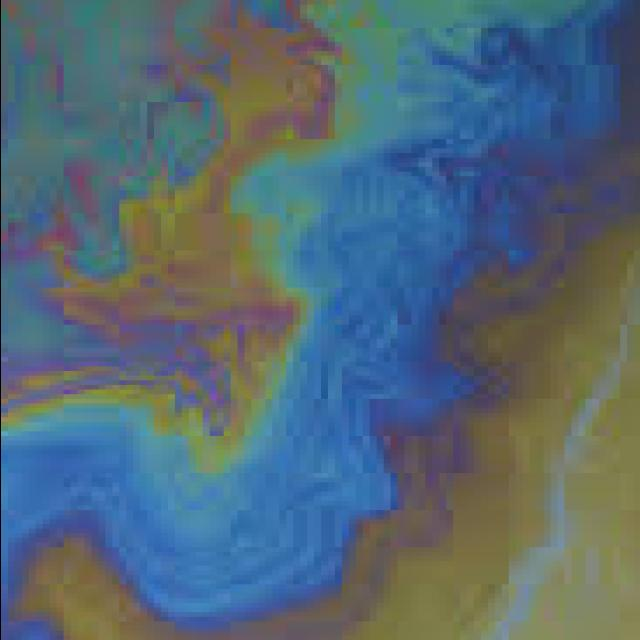-: (0, 0, 599, 640), (341, 0, 640, 640), (0, 357, 640, 640)
